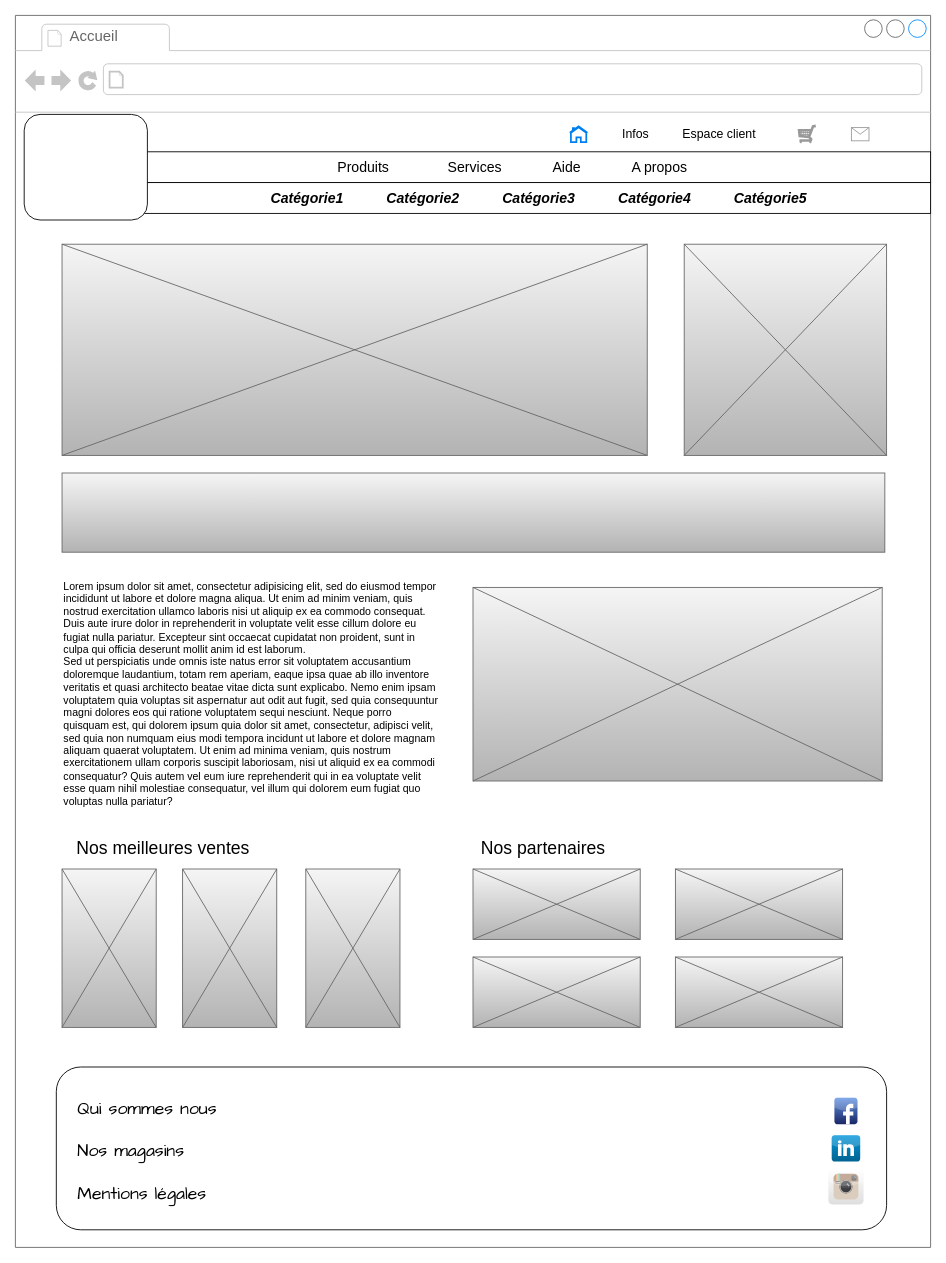
This 946x1263 diagram has some shape labels left out. The box of each missing label's shape, as (x1, y1, x2, y2) in pixels:
https://www.villagegreen.fr: (129, 67, 350, 91)
LOGO: (23, 114, 147, 220)
